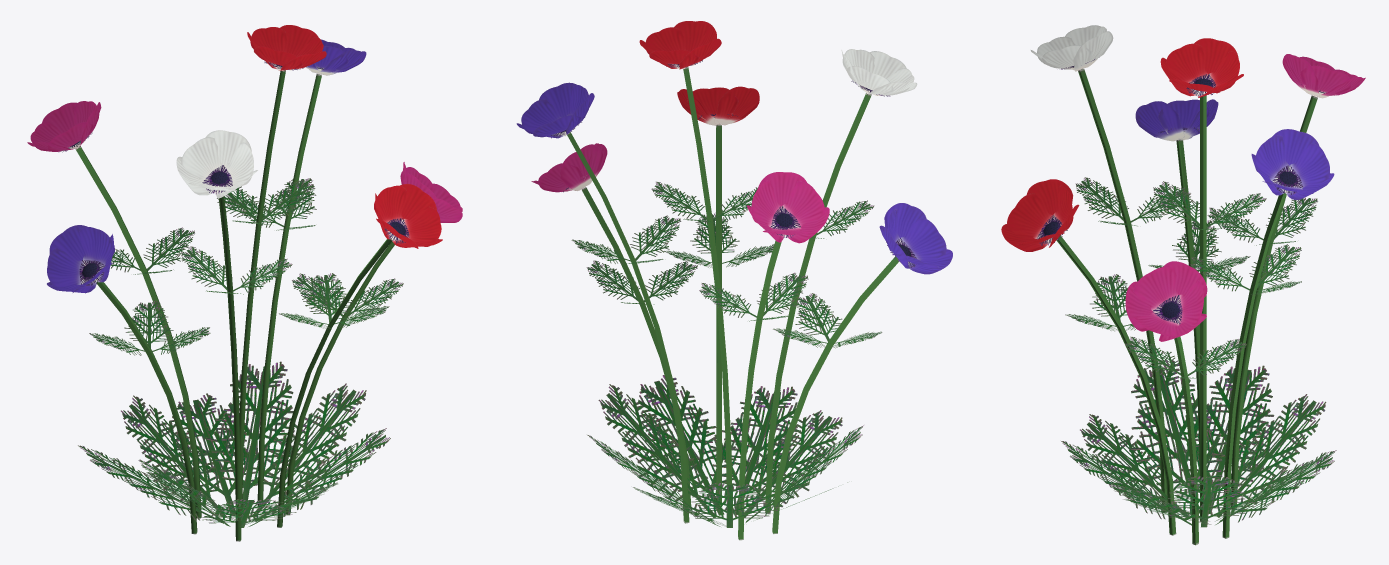
File: anemona.obj
3 views of the same model, side by side, from view 1: azimuth 30°, elevation 25°; view 2: azimuth 150°, elevation 25°; view 3: azimuth 270°, elevation 25° (orthographic). The views are drawn at different scales.
Parts seen in each view (by area): view 1: anemona; view 2: anemona; view 3: anemona.
Boxes of the visible parts, x1,y1,x2,y2 form: anemona: [27, 25, 462, 541]; anemona: [516, 21, 952, 540]; anemona: [1001, 25, 1365, 545].
Size of the model in its own units: 0.3343 by 0.362 by 0.2531.
